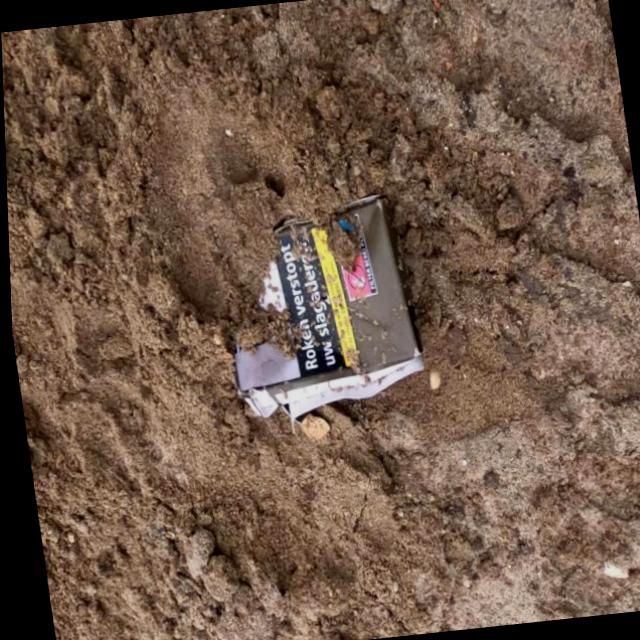Paper: (205, 189, 429, 428)
